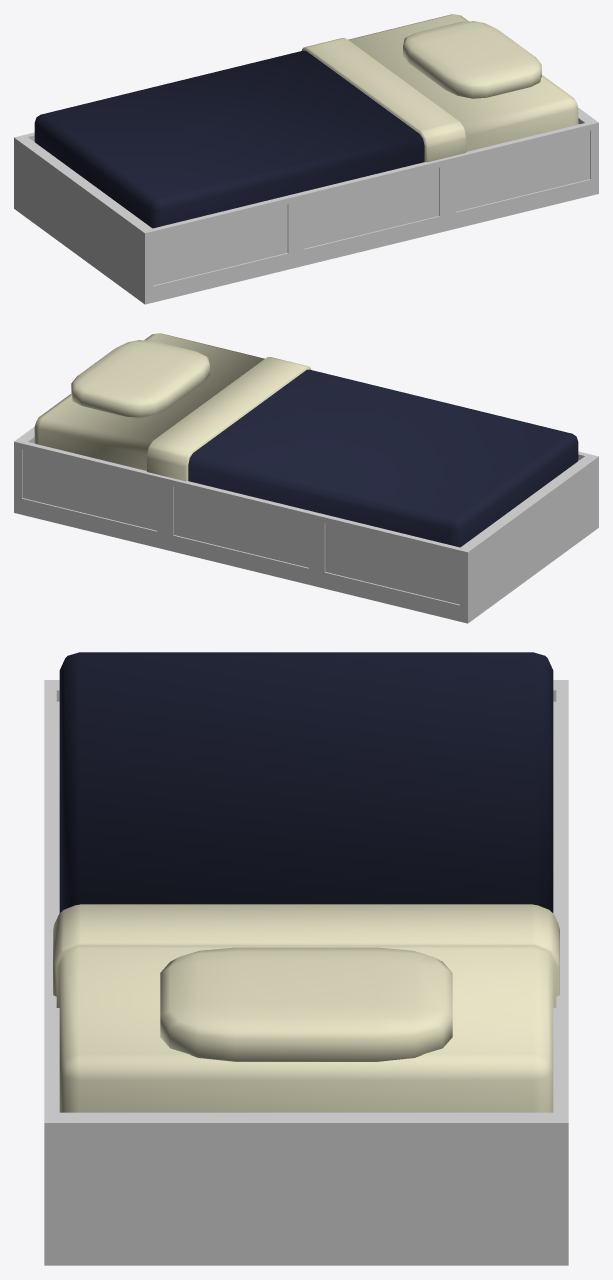
The model's file is Bed.fbx.
The picture shows the model from 3 angles, top to bottom: view 1: azimuth 30°, elevation 25°; view 2: azimuth 150°, elevation 25°; view 3: azimuth 270°, elevation 25°; orthographic projection. The views are drawn at different scales.
Visible parts, largest first — view 1: Mattress, Frame, Pillow; view 2: Mattress, Frame, Pillow; view 3: Mattress, Frame, Pillow.
Part boxes in pixels (<box>): Mattress: <box>34,14,578,228</box>; Frame: <box>14,108,598,304</box>; Pillow: <box>403,21,541,98</box>; Mattress: <box>34,333,578,547</box>; Frame: <box>14,427,598,623</box>; Pillow: <box>71,340,209,417</box>; Mattress: <box>53,652,559,1112</box>; Frame: <box>44,680,568,1265</box>; Pillow: <box>160,947,452,1061</box>.
Size of the model in its own units: 212 by 49.82 by 106.
